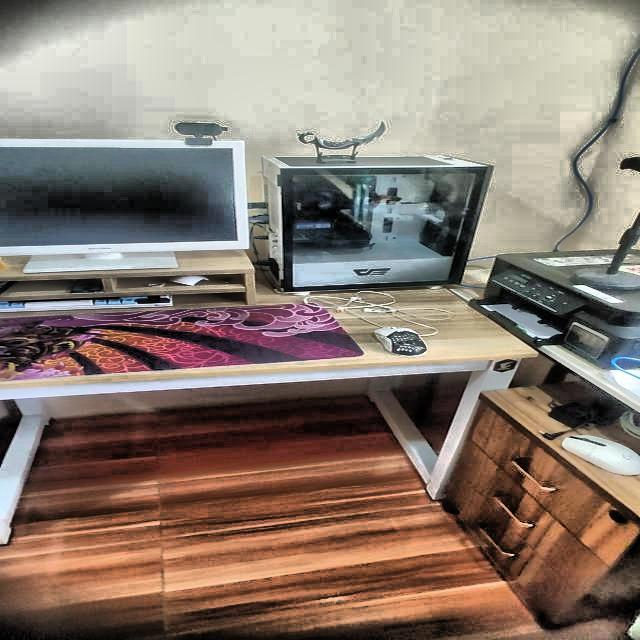mesa: (0, 276, 542, 546)
